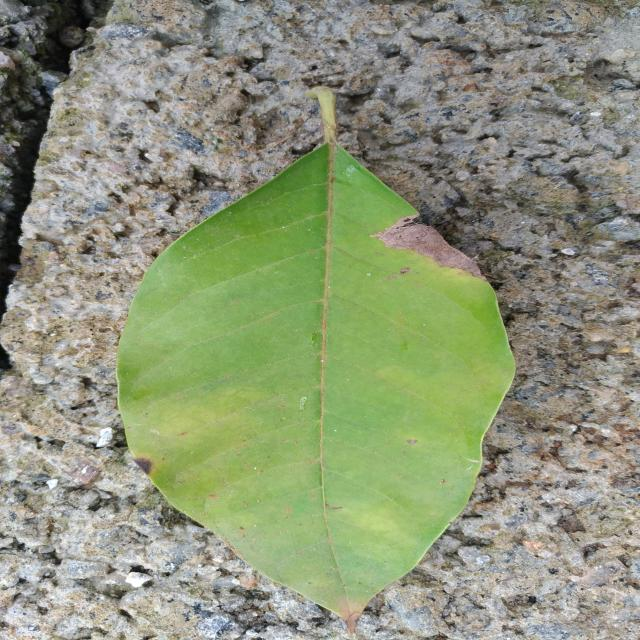coffee: (118, 86, 513, 631)
